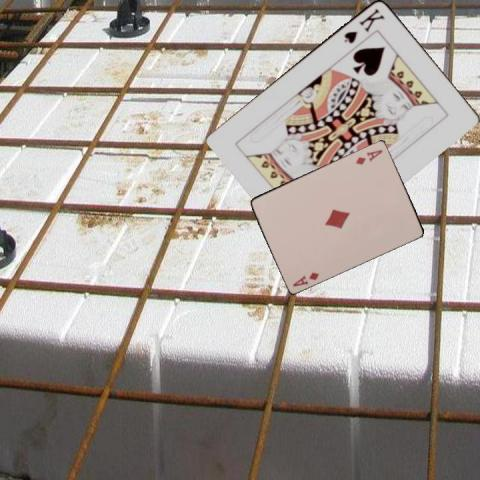Ad: (353, 146, 384, 166), (289, 269, 321, 288)
Ks: (340, 5, 387, 44)
